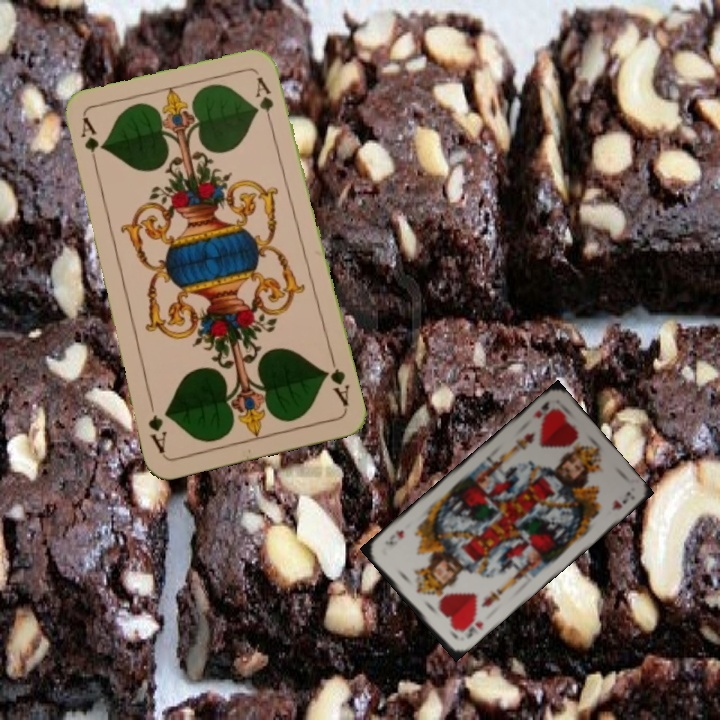GA: (320, 352, 352, 410), (76, 114, 101, 173)
HK: (454, 614, 486, 641), (528, 397, 552, 421)
